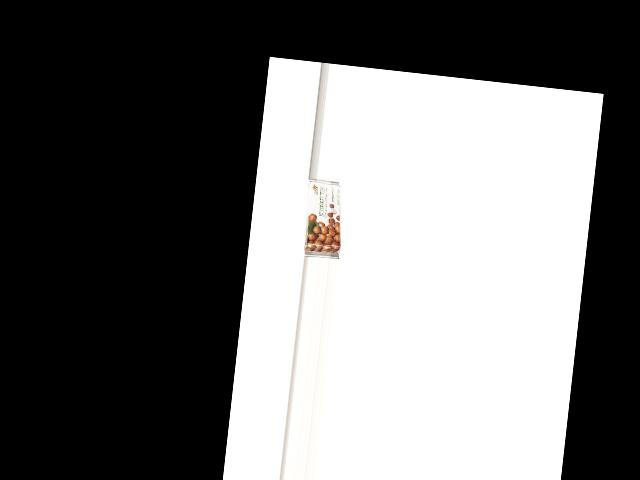chocolate: (302, 178, 348, 259)
